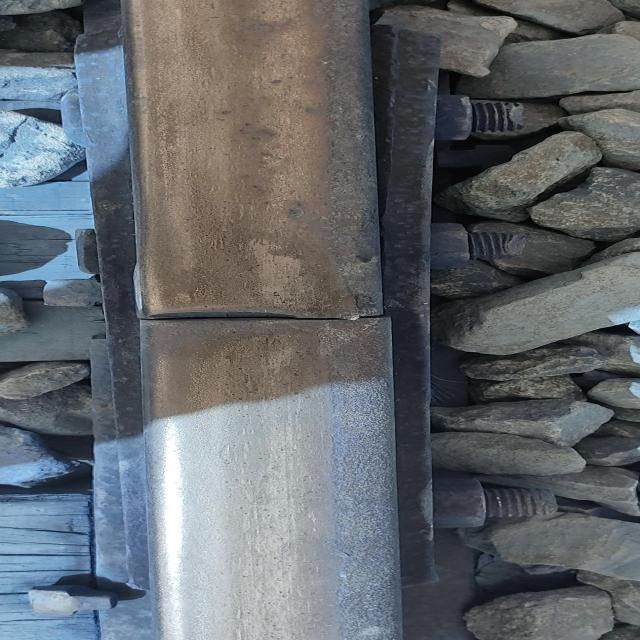Good Joint: (0, 34, 640, 631)
